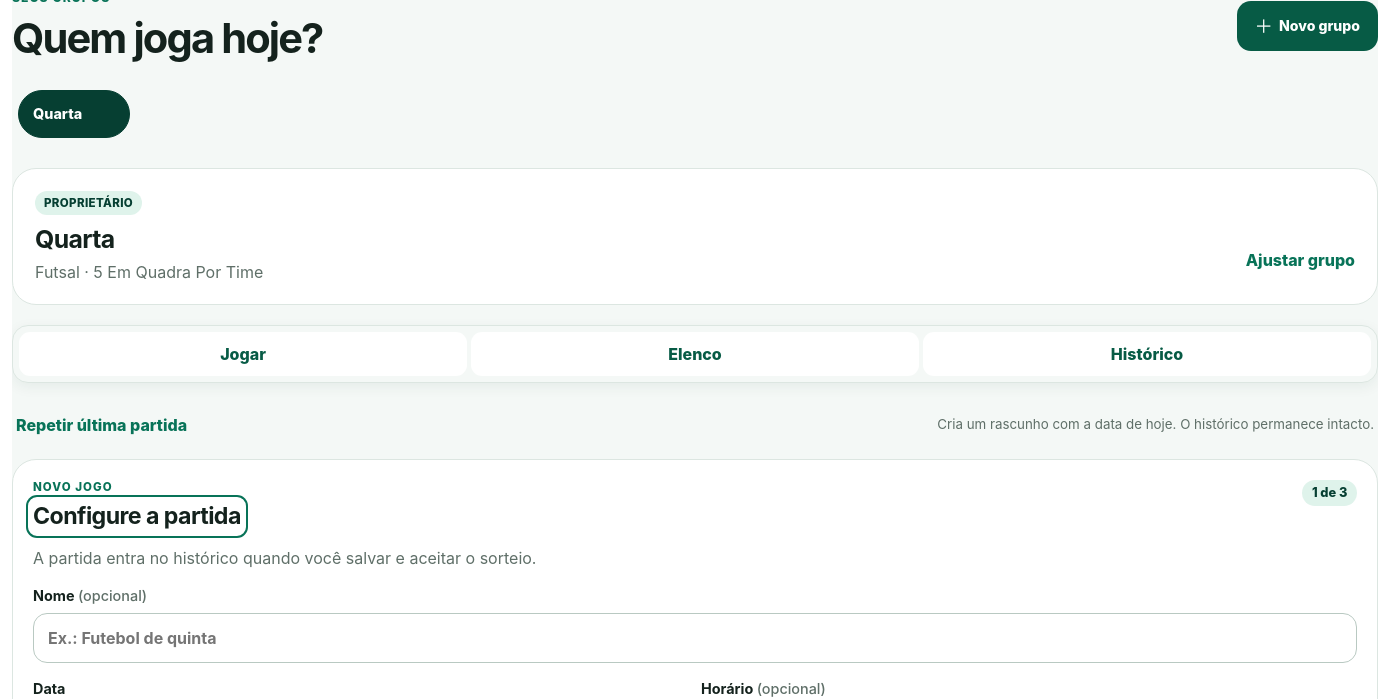
Scenario: aguarda o salvamento em Ajustes, então bloqueia exclusão até conferir a resposta incerta
Click the button "Ajustar grupo".
click(1300, 260)  # box [1246,238,1355,282]
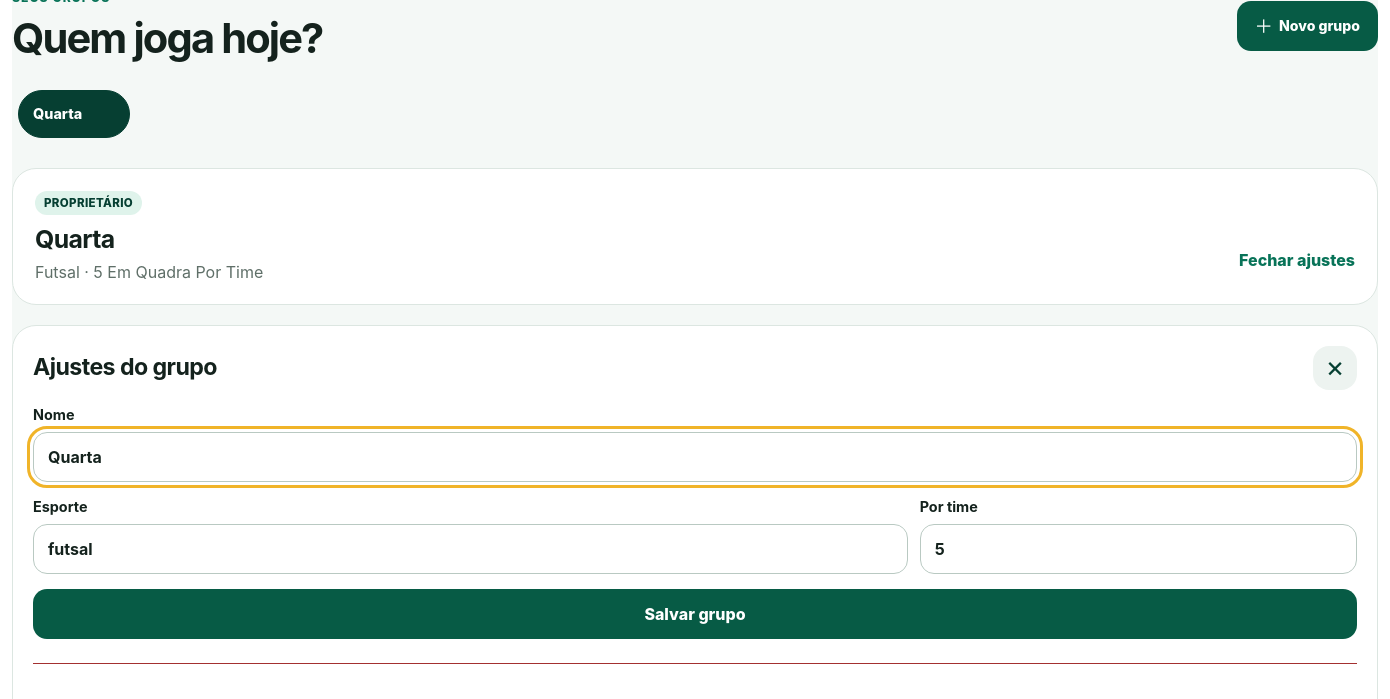
Click the button "Salvar grupo".
click(695, 614)  # box [33,589,1357,639]
(page scrolled)
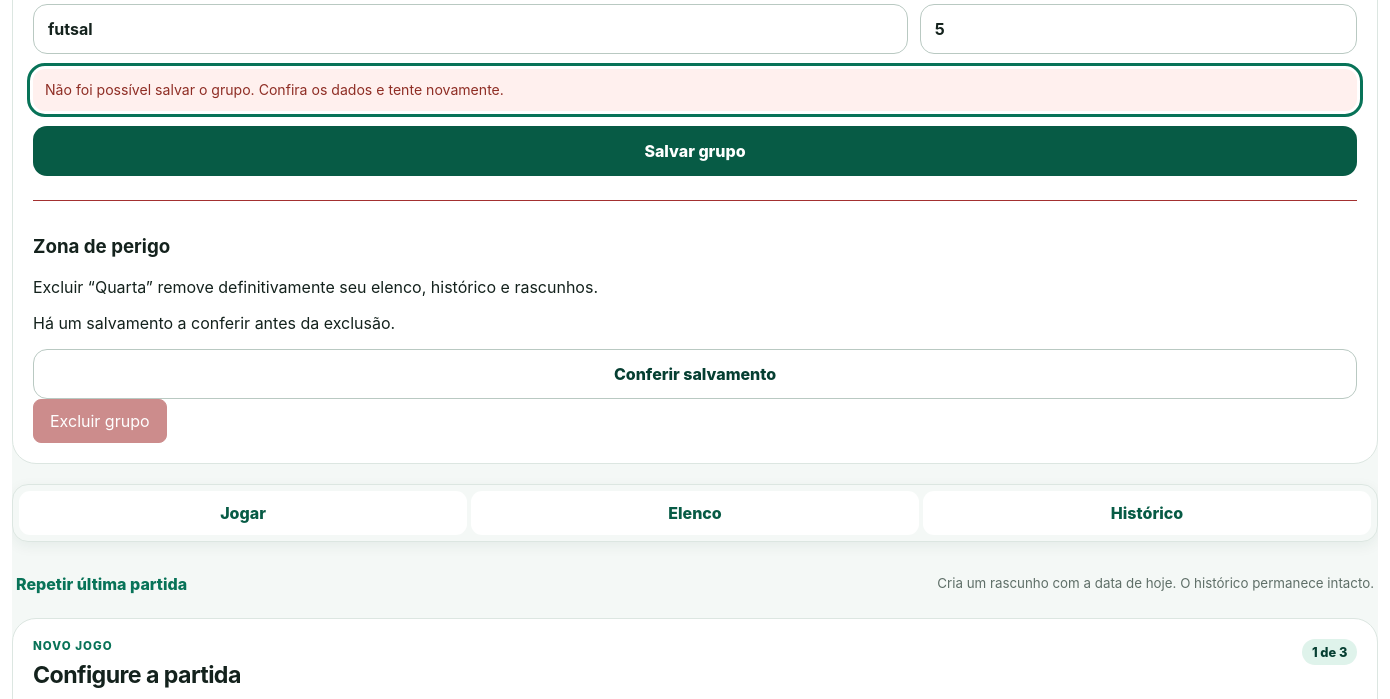
Expected: the button "Excluir grupo" is disabled, [33,399,167,443]
Click the button "Conferir salvamento".
click(695, 374)  # box [33,349,1357,399]
(page scrolled)
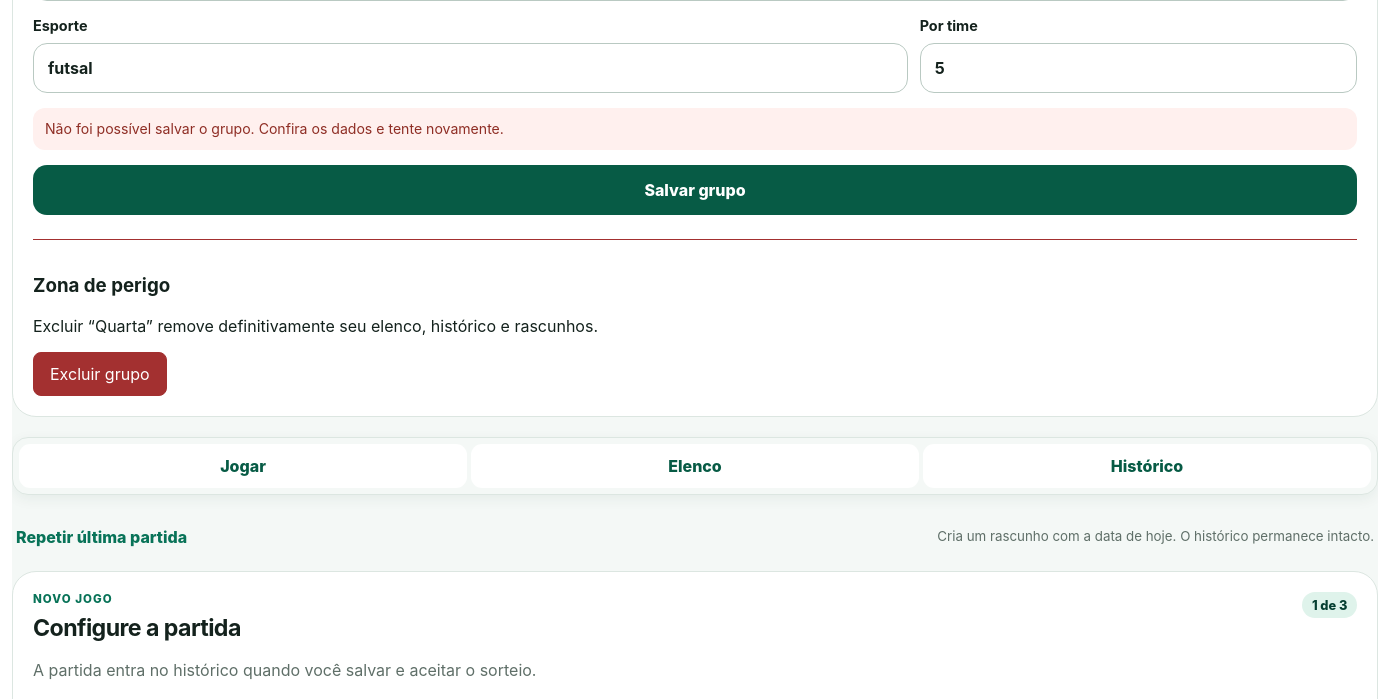
Expected: the button "Excluir grupo" is enabled, [33,352,167,396]
